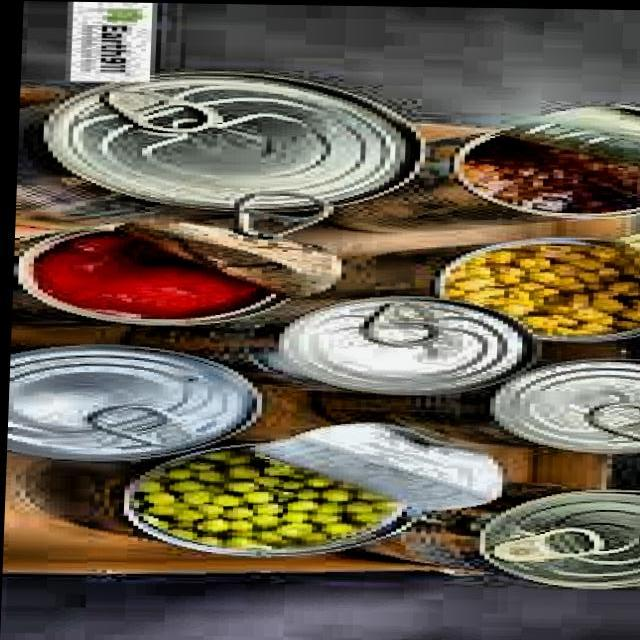litter: (15, 408, 512, 560), (12, 66, 434, 235), (9, 186, 345, 333), (116, 291, 545, 397), (319, 96, 640, 237), (341, 224, 640, 342), (325, 476, 640, 588), (5, 337, 277, 464), (314, 348, 640, 453)
